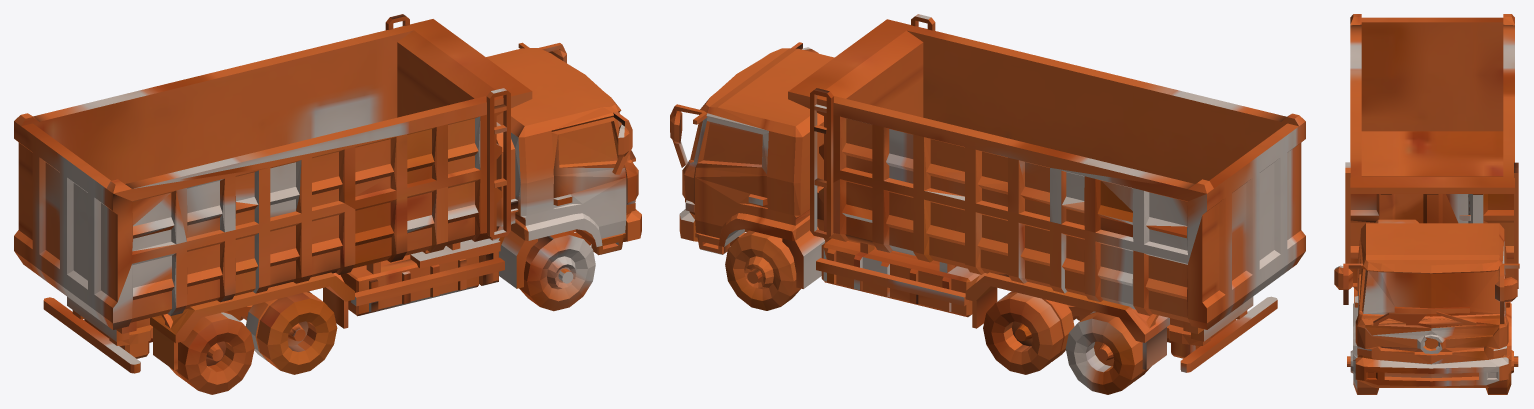
3 renders of one model, left to right at view 1: azimuth 30°, elevation 25°; view 2: azimuth 150°, elevation 25°; view 3: azimuth 270°, elevation 25°, orthographic. The views are drawn at different scales.
Visible parts, largest first — view 1: texture_pbr_v128; view 2: texture_pbr_v128; view 3: texture_pbr_v128.
Boxes of the visible parts, x1,y1,x2,y2 form: texture_pbr_v128: (14, 14, 641, 394); texture_pbr_v128: (670, 14, 1305, 394); texture_pbr_v128: (1334, 14, 1519, 394).
Size of the model in its own units: 1.07 by 0.449 by 0.3798.
